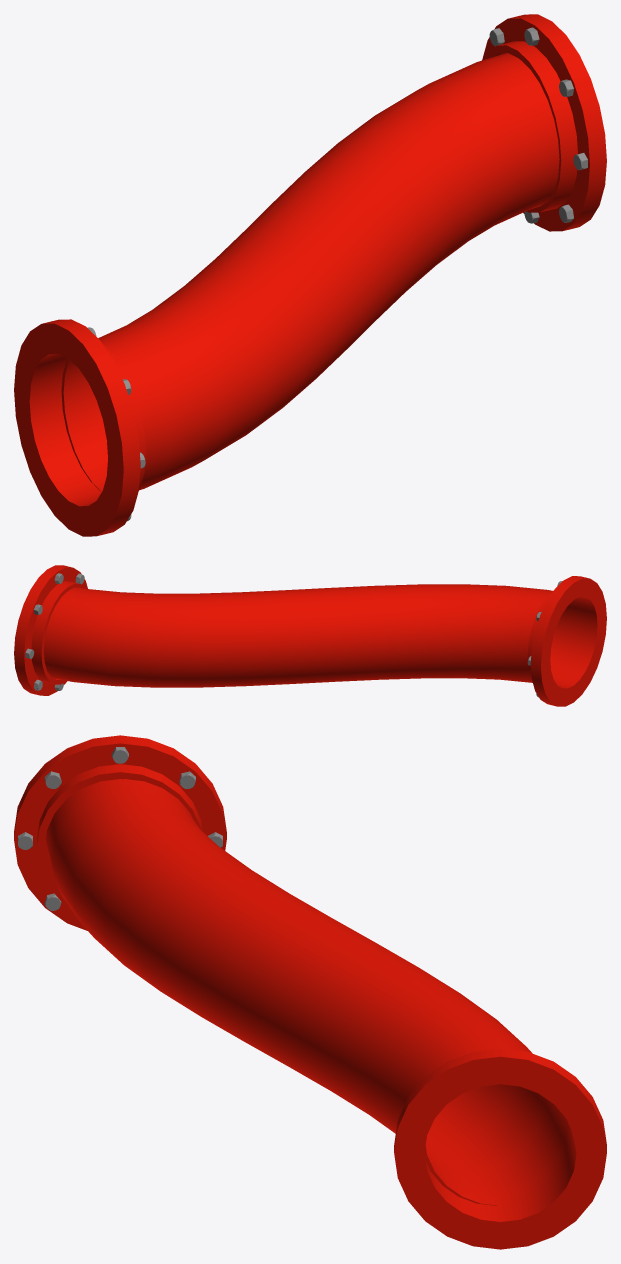
File: Pipe_200_Swerve_2m.fbx
The picture shows the model from 3 angles, top to bottom: view 1: azimuth 30°, elevation 25°; view 2: azimuth 150°, elevation 25°; view 3: azimuth 270°, elevation 25°; orthographic projection. The views are drawn at different scales.
Parts seen in each view (by area): view 1: Pipe_200_Swerve_2m; view 2: Pipe_200_Swerve_2m; view 3: Pipe_200_Swerve_2m.
Boxes of the visible parts, x1=… form: Pipe_200_Swerve_2m: x1=14, y1=14, x2=606, y2=536; Pipe_200_Swerve_2m: x1=14, y1=565, x2=606, y2=706; Pipe_200_Swerve_2m: x1=14, y1=735, x2=606, y2=1249.
Size of the model in its own units: 1 by 0.28 by 0.78.
